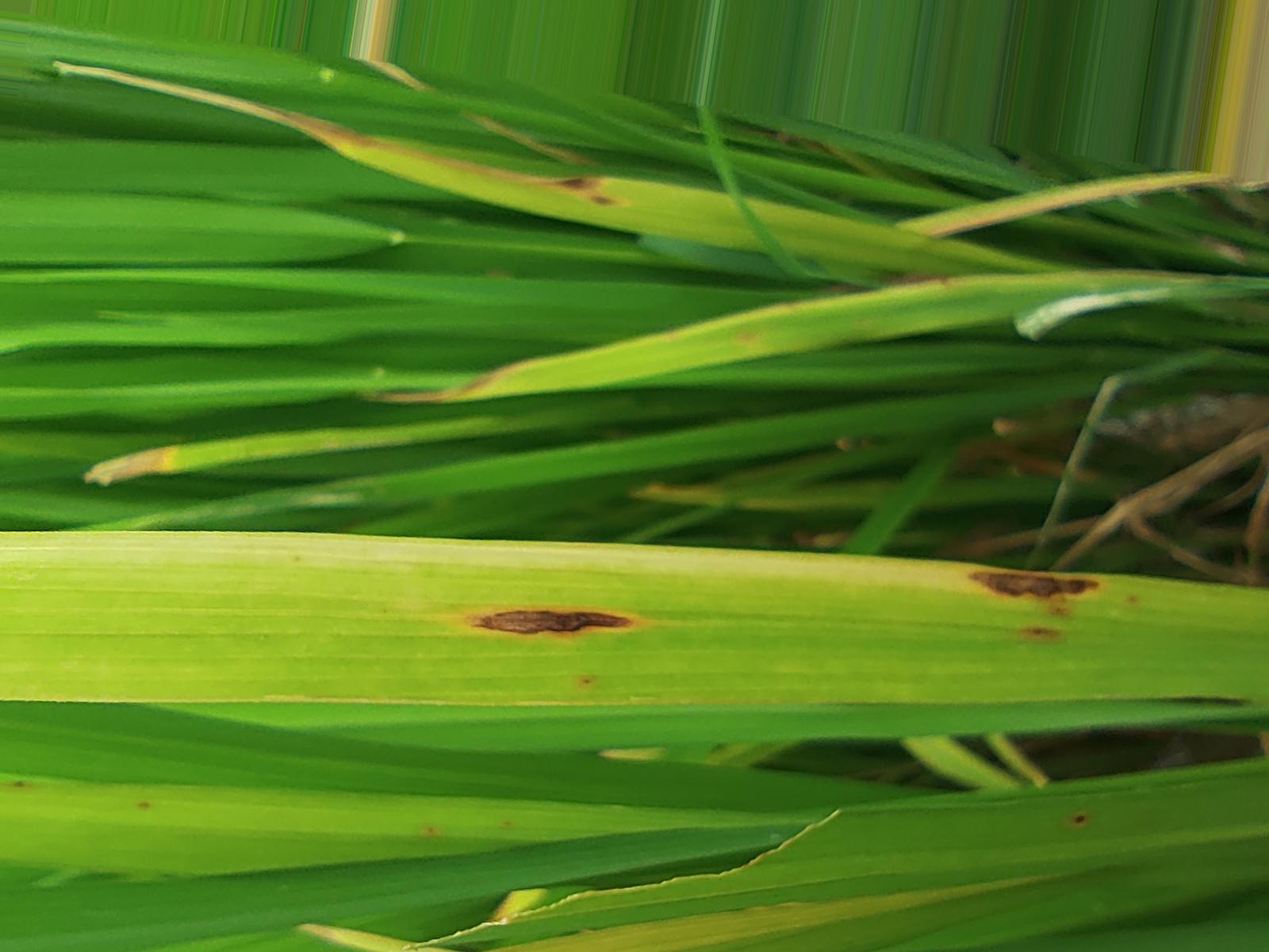LEAF: (0, 531, 1268, 705)
NBS: (964, 570, 1101, 601), (473, 610, 631, 634), (1018, 626, 1065, 642), (1046, 604, 1075, 618), (1127, 593, 1140, 608), (581, 676, 597, 686)
